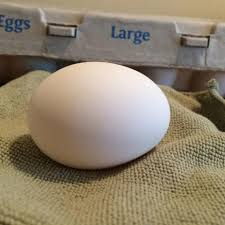eggs: (30, 51, 167, 181)
